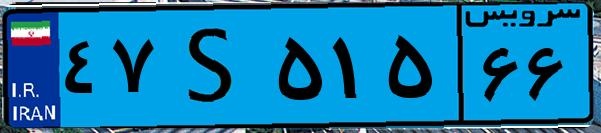1: (330, 28, 385, 110)
4: (57, 26, 110, 100)
5: (270, 28, 330, 110), (385, 28, 445, 110)
6: (475, 38, 525, 113), (525, 38, 570, 115)
7: (110, 28, 158, 98)
S: (158, 12, 270, 120)
